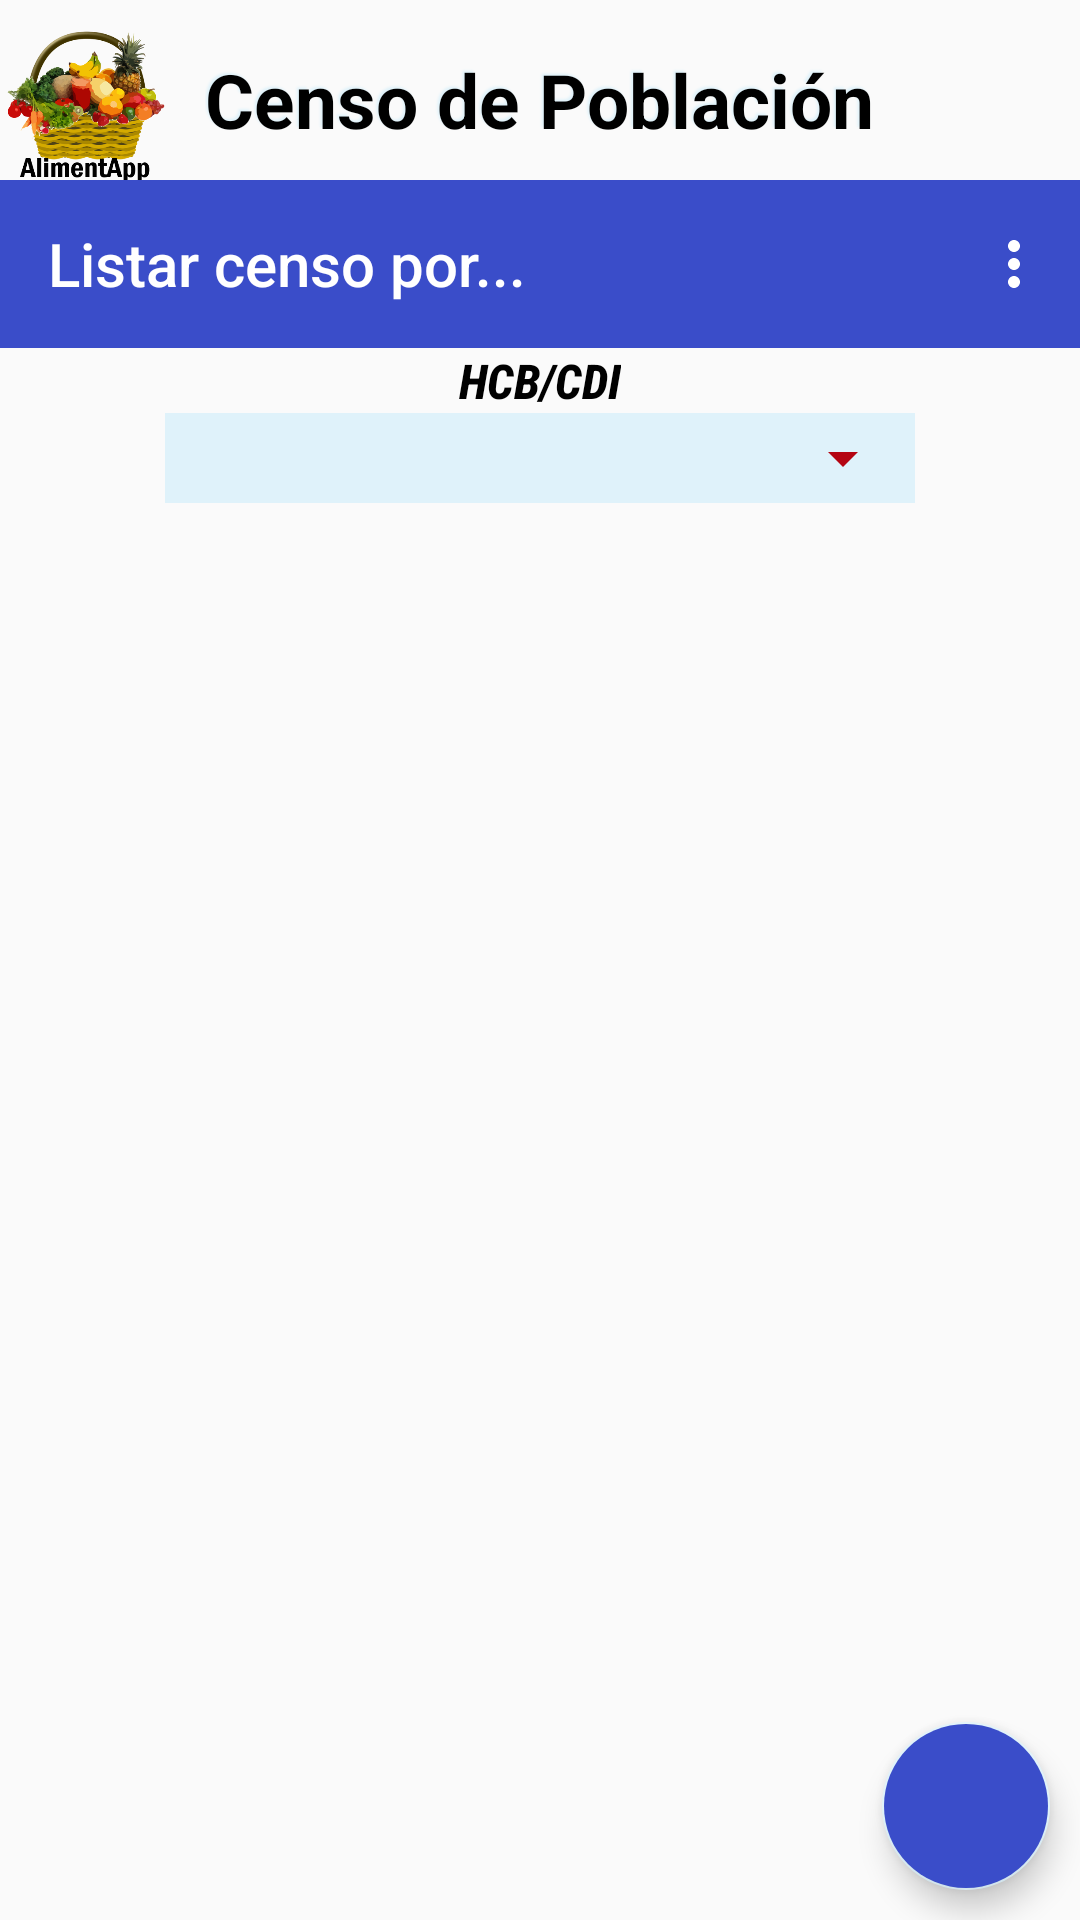

Screen size 1080*1920. Icon name, then its box in pixels as (x1, y1, x2, y2):
iconosuperior: (8, 31, 165, 178)
